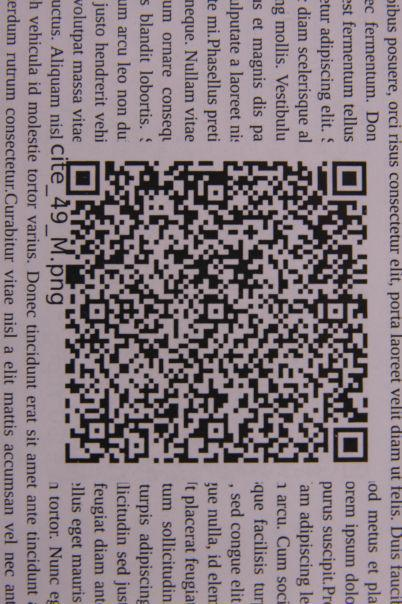Finder pattern: (57, 155, 108, 200), (328, 155, 374, 202), (328, 423, 372, 469)
